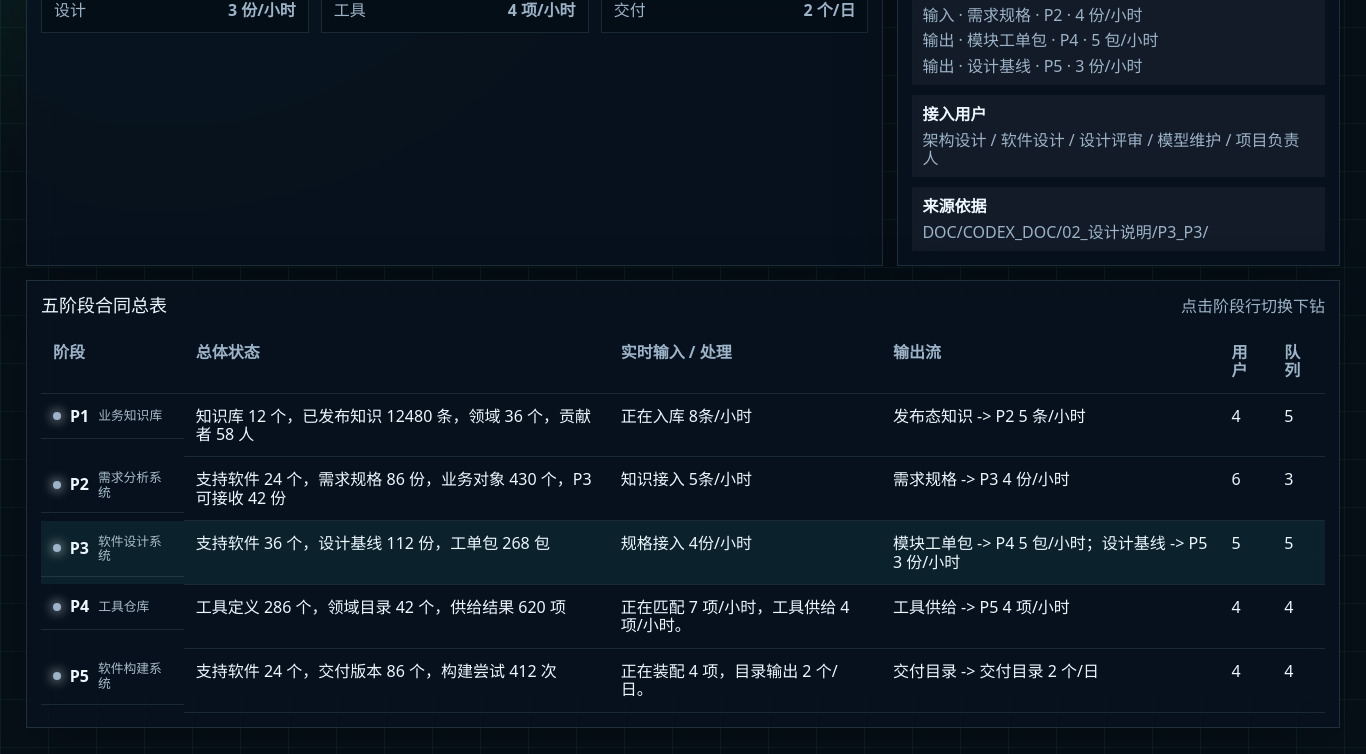
Test: renders simulator history points and refetches drilldown when a stage row is selected
(page scrolled)
Click the row "P5" at (683, 680), box [41, 648, 1325, 712]
(page scrolled)
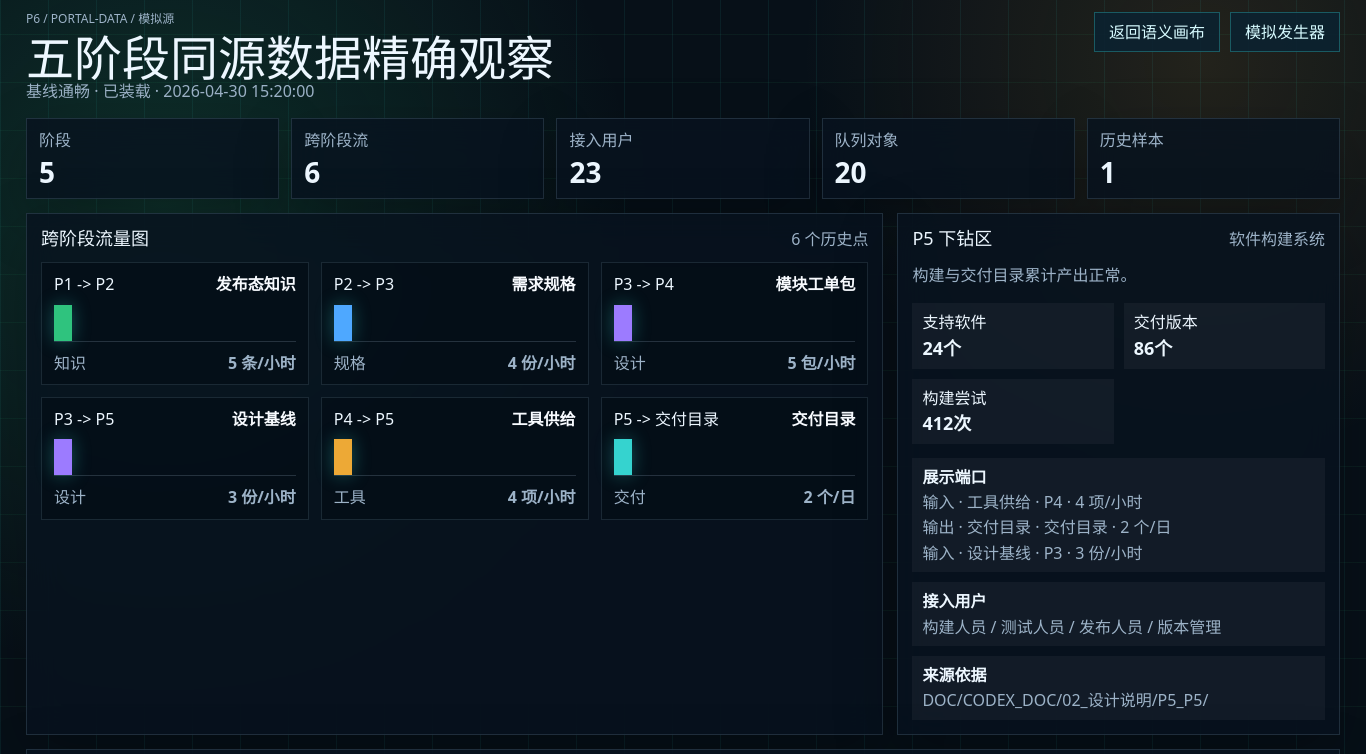
Result: the heading "P5 下钻区" is shown at [912, 228, 992, 248]
